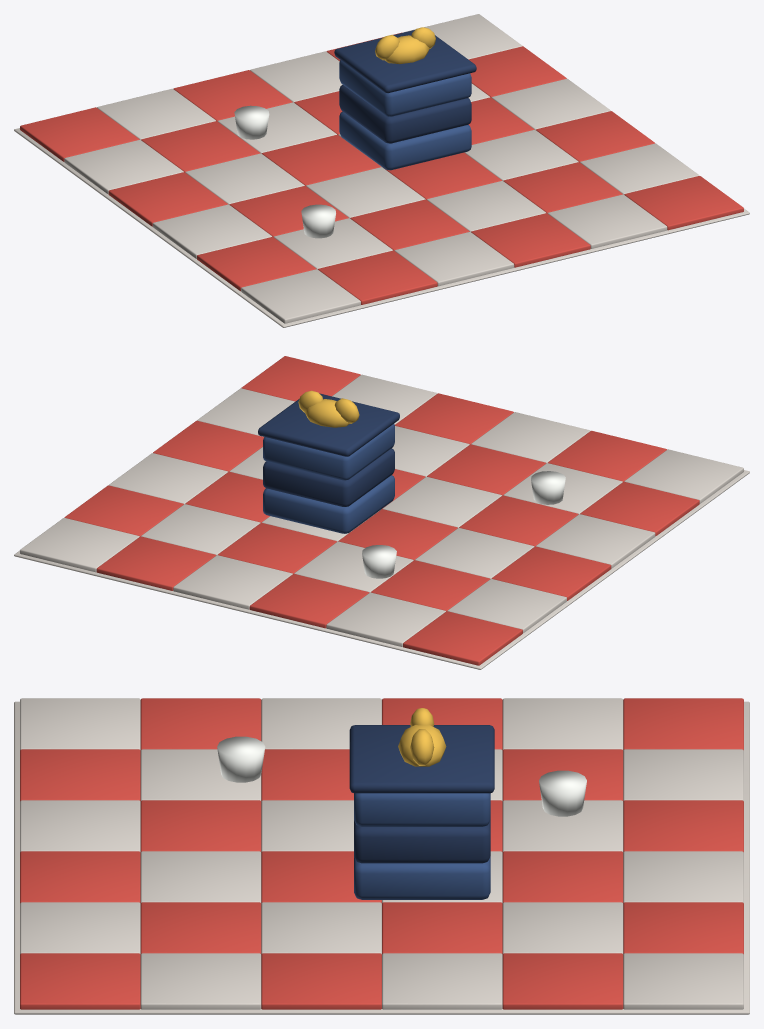
File: event-picnic.glb
3 renders of one model, top to bottom at view 1: azimuth 30°, elevation 25°; view 2: azimuth 150°, elevation 25°; view 3: azimuth 270°, elevation 25°, orthographic. The views are drawn at different scales.
Parts seen in each view (by area): view 1: mat, lunch; view 2: mat, lunch; view 3: mat, lunch.
Boxes of the visible parts, bbox=[...] form: mat: bbox=[14, 14, 749, 327]; lunch: bbox=[234, 27, 476, 238]; mat: bbox=[14, 356, 749, 669]; lunch: bbox=[258, 390, 565, 578]; mat: bbox=[14, 698, 749, 1014]; lunch: bbox=[217, 708, 586, 899].
Size of the model in its own units: 1.83 by 0.452 by 1.83.
